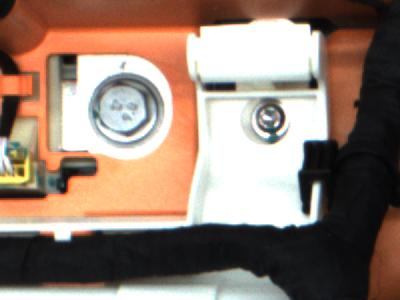nut_b: (81, 64, 170, 152)
screw_m: (247, 100, 295, 140)
